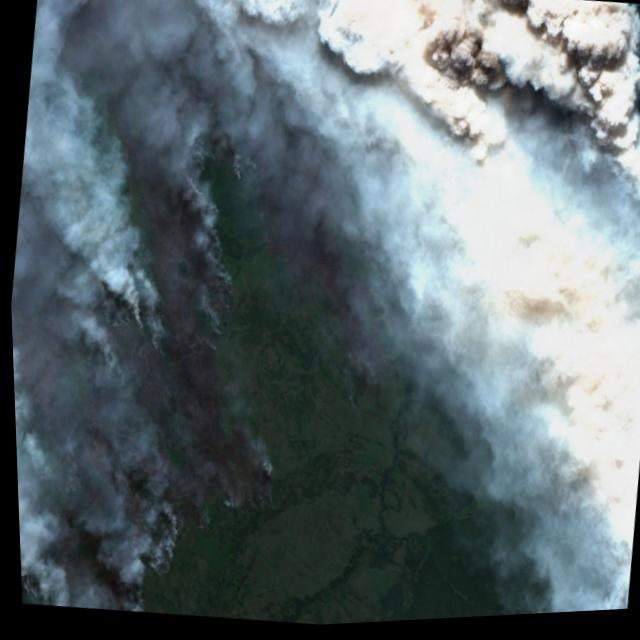fire: (188, 214, 242, 352), (211, 438, 278, 528), (120, 274, 171, 364), (134, 517, 182, 583), (179, 129, 216, 189), (16, 554, 57, 603)
